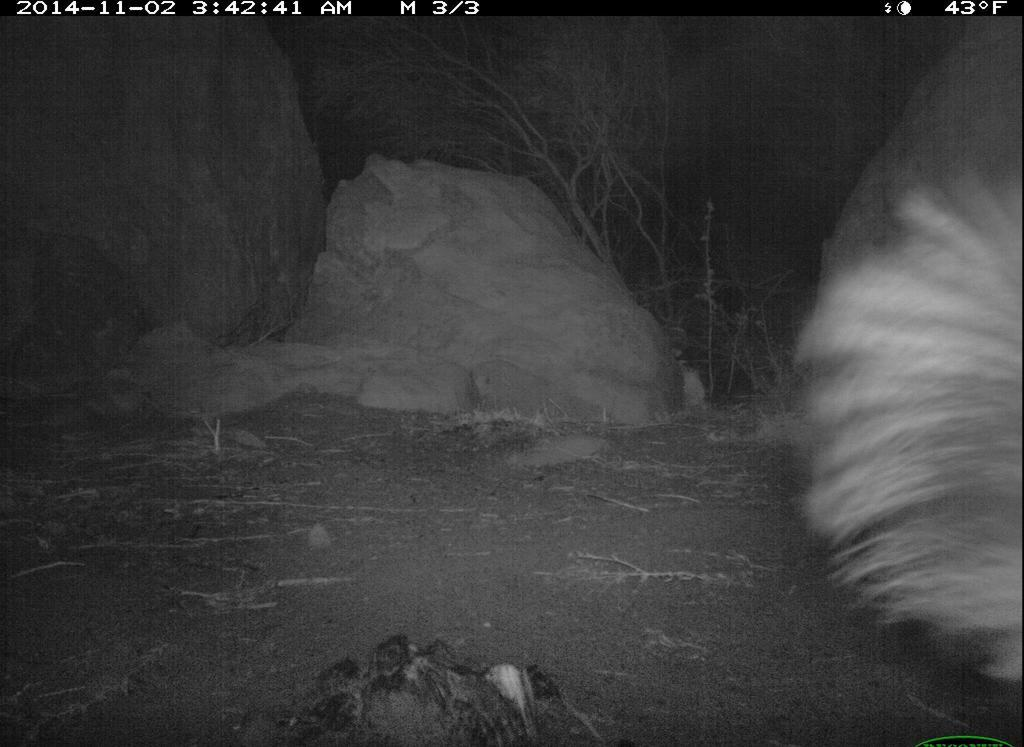skunk: (779, 157, 1019, 687)
